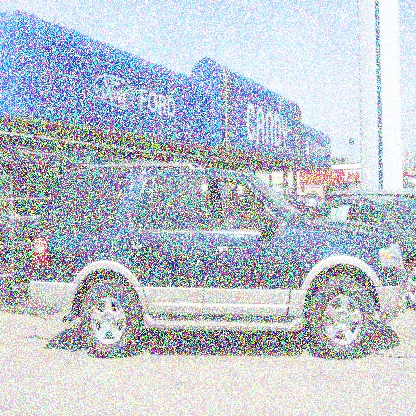Vehicle: (28, 163, 407, 364)
